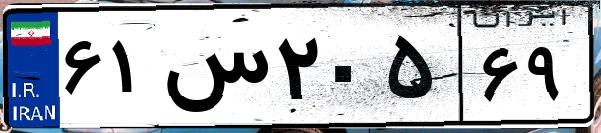0: (330, 28, 385, 110)
1: (110, 28, 158, 98)
2: (270, 28, 330, 110)
5: (385, 28, 445, 110)
6: (57, 26, 110, 100), (475, 38, 525, 113)
9: (525, 38, 570, 115)
س: (158, 20, 270, 120)
